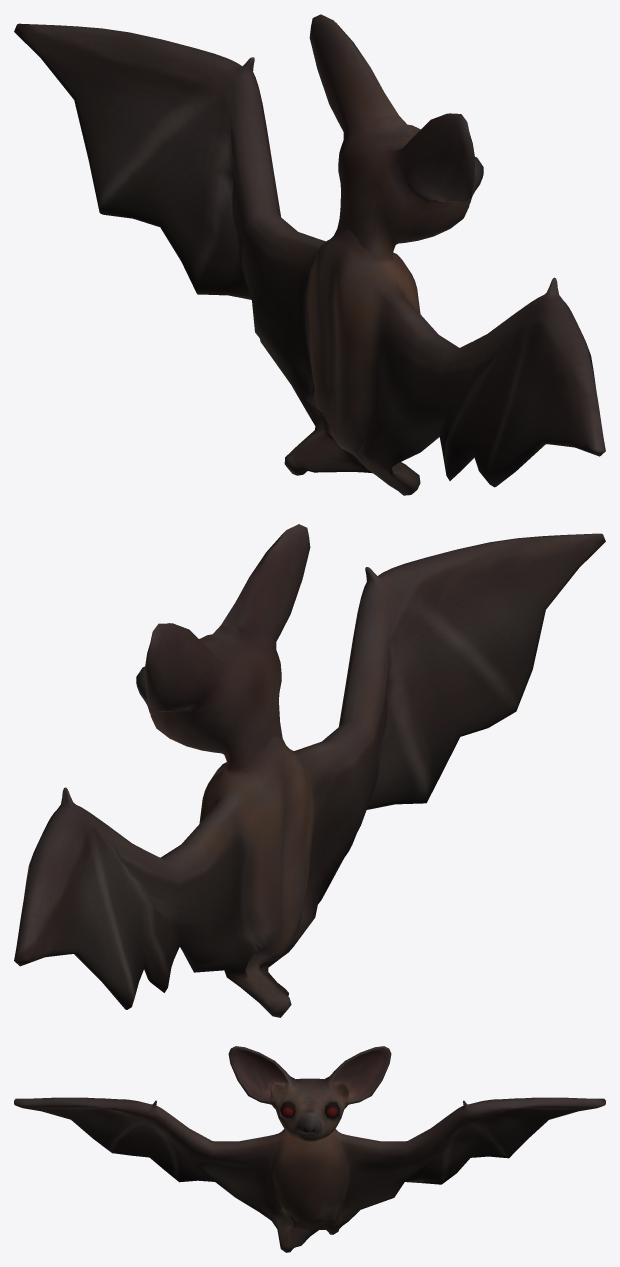
Rendered from bat.obj.
The picture shows the model from 3 angles, top to bottom: view 1: azimuth 30°, elevation 25°; view 2: azimuth 150°, elevation 25°; view 3: azimuth 270°, elevation 25°; orthographic projection. The views are drawn at different scales.
Parts seen in each view (by area): view 1: Object_7_Bat_body_Bat_body_mtl_0; view 2: Object_7_Bat_body_Bat_body_mtl_0; view 3: Object_7_Bat_body_Bat_body_mtl_0.
Boxes of the visible parts, x1,y1,x2,y2 form: Object_7_Bat_body_Bat_body_mtl_0: (14, 14, 605, 495); Object_7_Bat_body_Bat_body_mtl_0: (14, 524, 605, 1017); Object_7_Bat_body_Bat_body_mtl_0: (14, 1046, 605, 1252).
Size of the model in its own units: 0.2529 by 0.5234 by 1.35.
